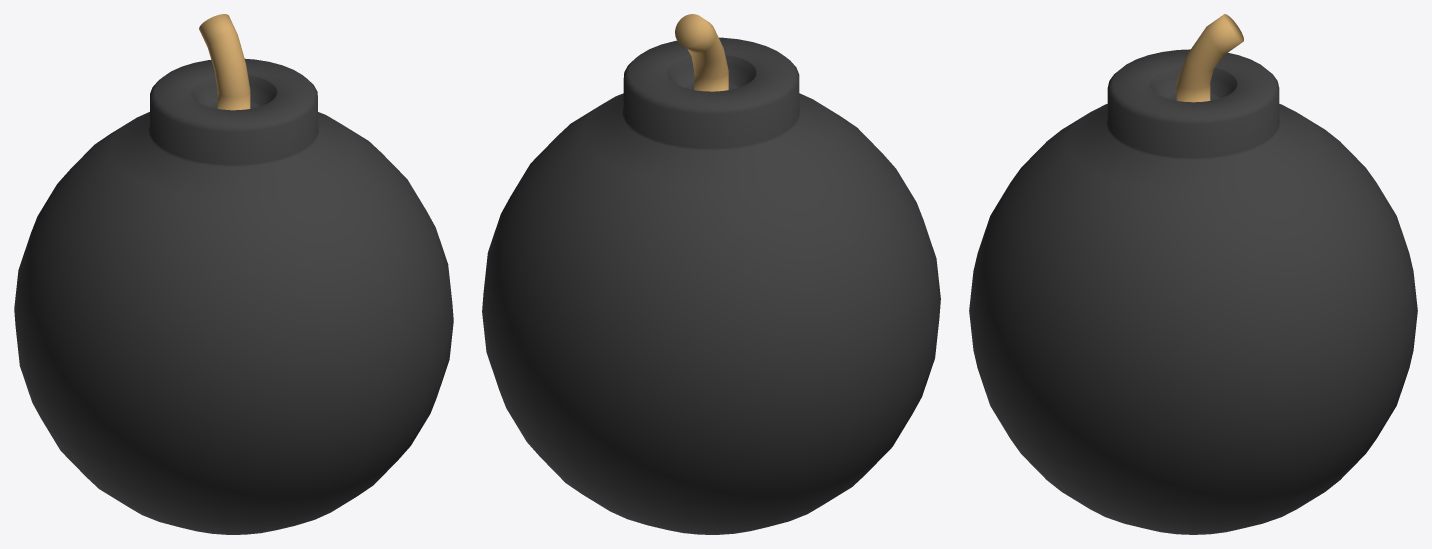
The model's file is Bomb Model.fbx.
3 views of the same model, side by side, from view 1: azimuth 30°, elevation 25°; view 2: azimuth 150°, elevation 25°; view 3: azimuth 270°, elevation 25° (orthographic). The views are drawn at different scales.
Visible parts, largest first — view 1: Sphere; view 2: Sphere; view 3: Sphere.
Boxes of the visible parts, left/top/right/bottom form: Sphere: left=14, top=14, right=453, bottom=534; Sphere: left=482, top=14, right=940, bottom=534; Sphere: left=969, top=14, right=1417, bottom=534.
Size of the model in its own units: 200 by 245 by 200.
